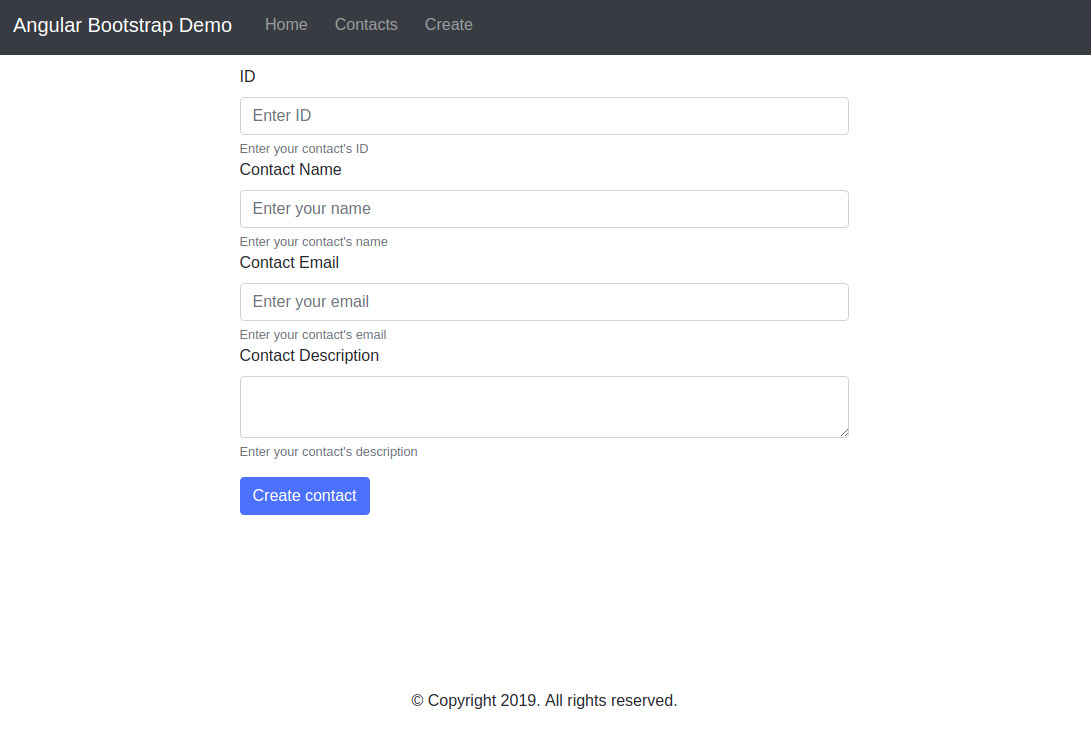_form_: (229, 59, 870, 525)
button: (238, 474, 374, 518)
field: (238, 371, 852, 441), (237, 282, 852, 325), (239, 95, 850, 138), (238, 189, 851, 229)
field_with_label: (235, 348, 856, 443), (238, 66, 852, 142), (234, 255, 854, 325), (237, 162, 855, 230)
